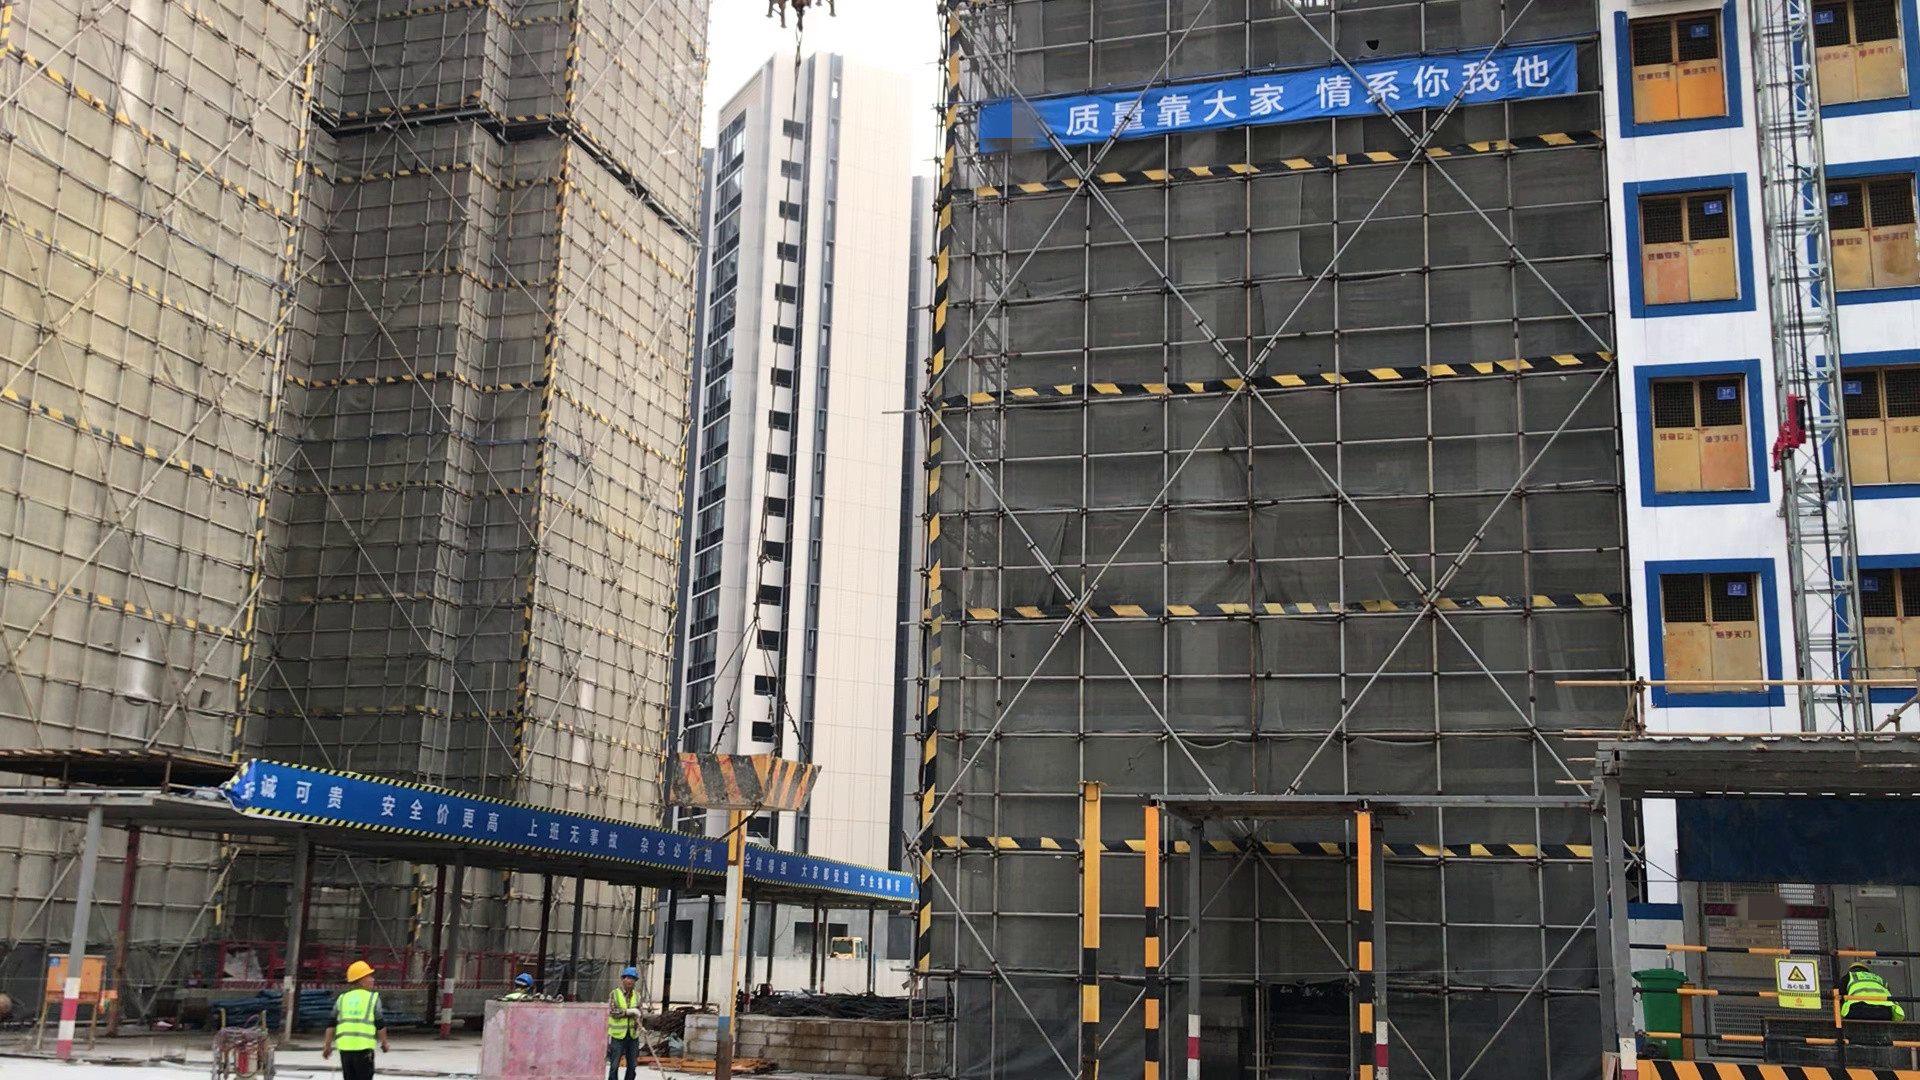ebox: (42, 951, 104, 997)
fence: (220, 940, 516, 992)
handcart: (213, 999, 279, 1080)
helmet: (346, 961, 376, 983), (620, 967, 638, 978), (513, 974, 531, 985)
hopper: (669, 756, 817, 815)
person: (323, 960, 391, 1080), (608, 967, 647, 1080), (1840, 962, 1907, 1020)
slogan: (246, 756, 913, 904), (1059, 45, 1575, 153)
vest: (1841, 971, 1903, 1020), (334, 989, 377, 1051), (609, 986, 639, 1038)
